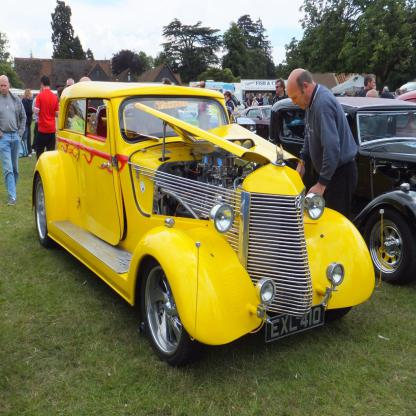Car: (32, 82, 415, 370)
